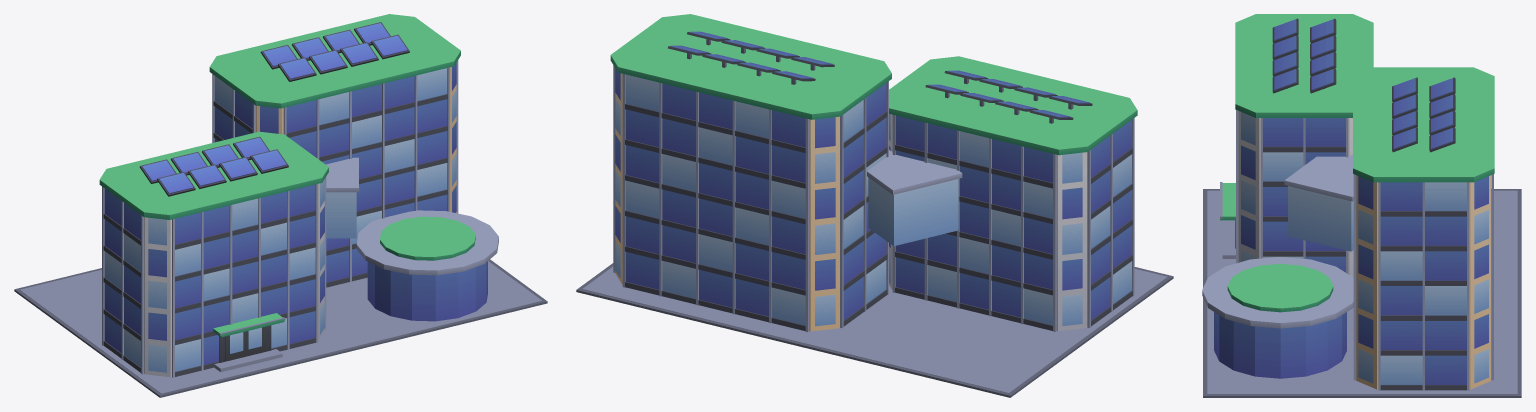
Rendered from off_silicon_campus_3x2.glb.
3 renders of one model, left to right at view 1: azimuth 30°, elevation 25°; view 2: azimuth 150°, elevation 25°; view 3: azimuth 270°, elevation 25°, orthographic. The views are drawn at different scales.
Visible parts, largest first — view 1: off_silicon_campus_3x2; view 2: off_silicon_campus_3x2; view 3: off_silicon_campus_3x2.
Boxes of the visible parts, left/top/right/bottom form: off_silicon_campus_3x2: left=14, top=14, right=547, bottom=397; off_silicon_campus_3x2: left=576, top=14, right=1173, bottom=397; off_silicon_campus_3x2: left=1202, top=14, right=1521, bottom=397.
Bounding box in the file's own units: 5.74 × 2.97 × 3.75.
1 material, 1 textured.
